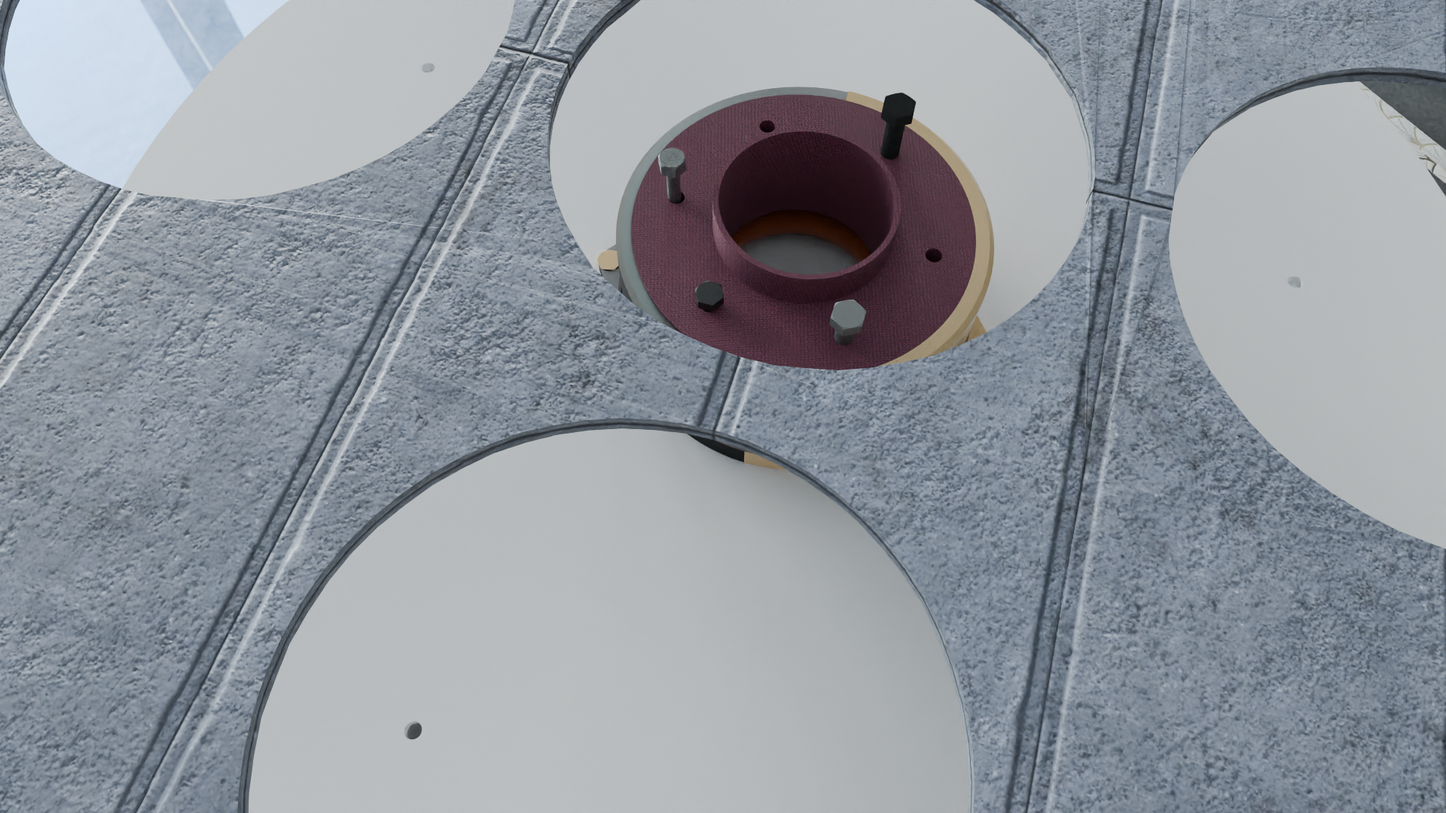bolt: (831, 300, 867, 330), (883, 93, 917, 119), (695, 281, 724, 306), (658, 148, 686, 171)
